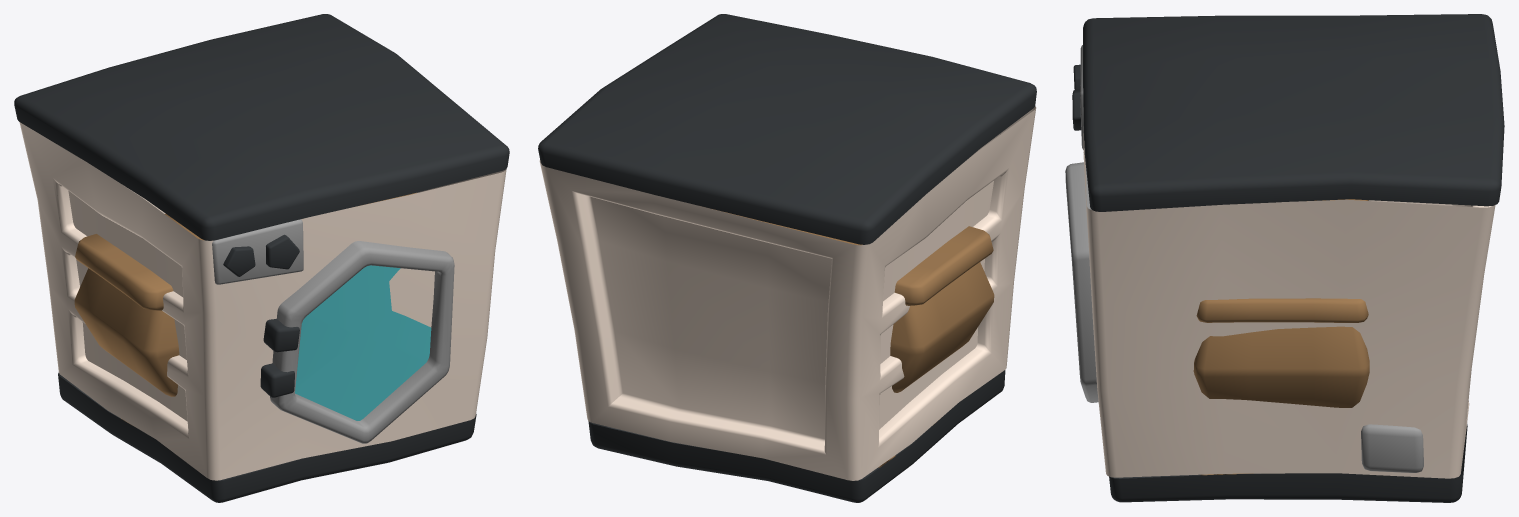
Rendered from props_dryingMachine.fbx.
3 renders of one model, left to right at view 1: azimuth 30°, elevation 25°; view 2: azimuth 150°, elevation 25°; view 3: azimuth 270°, elevation 25°, orthographic. The views are drawn at different scales.
Parts seen in each view (by area): view 1: dryingMachine, Cube.001; view 2: dryingMachine, Cube.001; view 3: dryingMachine, Cube.001.
Boxes of the visible parts, bbox=[...] form: dryingMachine: bbox=[14, 14, 509, 502]; Cube.001: bbox=[74, 192, 416, 426]; dryingMachine: bbox=[538, 14, 1036, 502]; Cube.001: bbox=[712, 209, 994, 467]; dryingMachine: bbox=[1065, 14, 1504, 502]; Cube.001: bbox=[1193, 199, 1369, 475].
Bounding box in the file's own units: 166 × 154 × 172.
